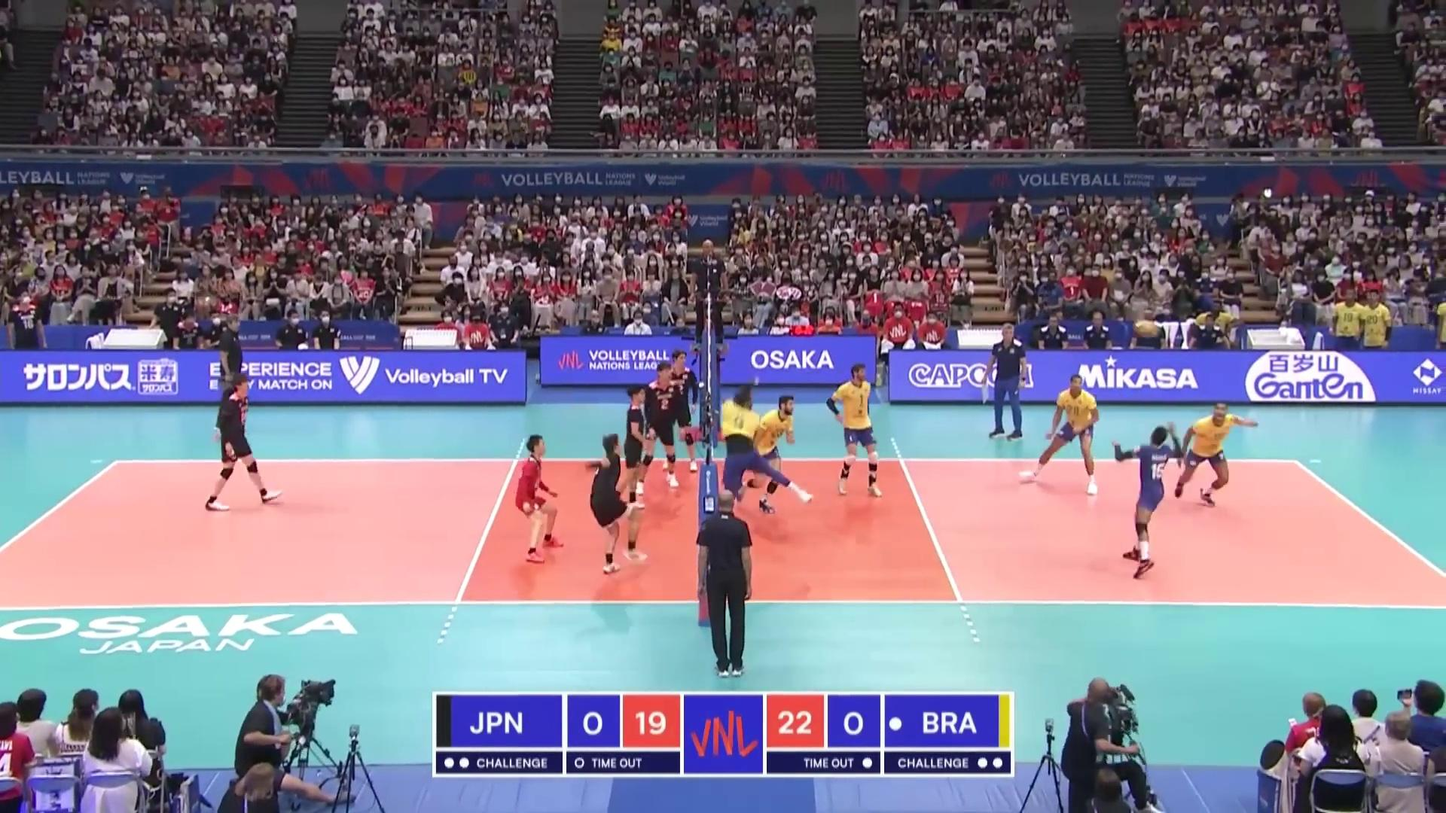player: (715, 388, 811, 520), (205, 379, 282, 510), (1021, 376, 1101, 493), (589, 434, 647, 574), (1169, 402, 1246, 507), (1121, 424, 1172, 577), (732, 394, 796, 512), (829, 365, 881, 501), (513, 436, 565, 565), (636, 363, 683, 497), (659, 350, 699, 478), (611, 386, 651, 510)
refree: (701, 500, 760, 678), (693, 241, 727, 354)
